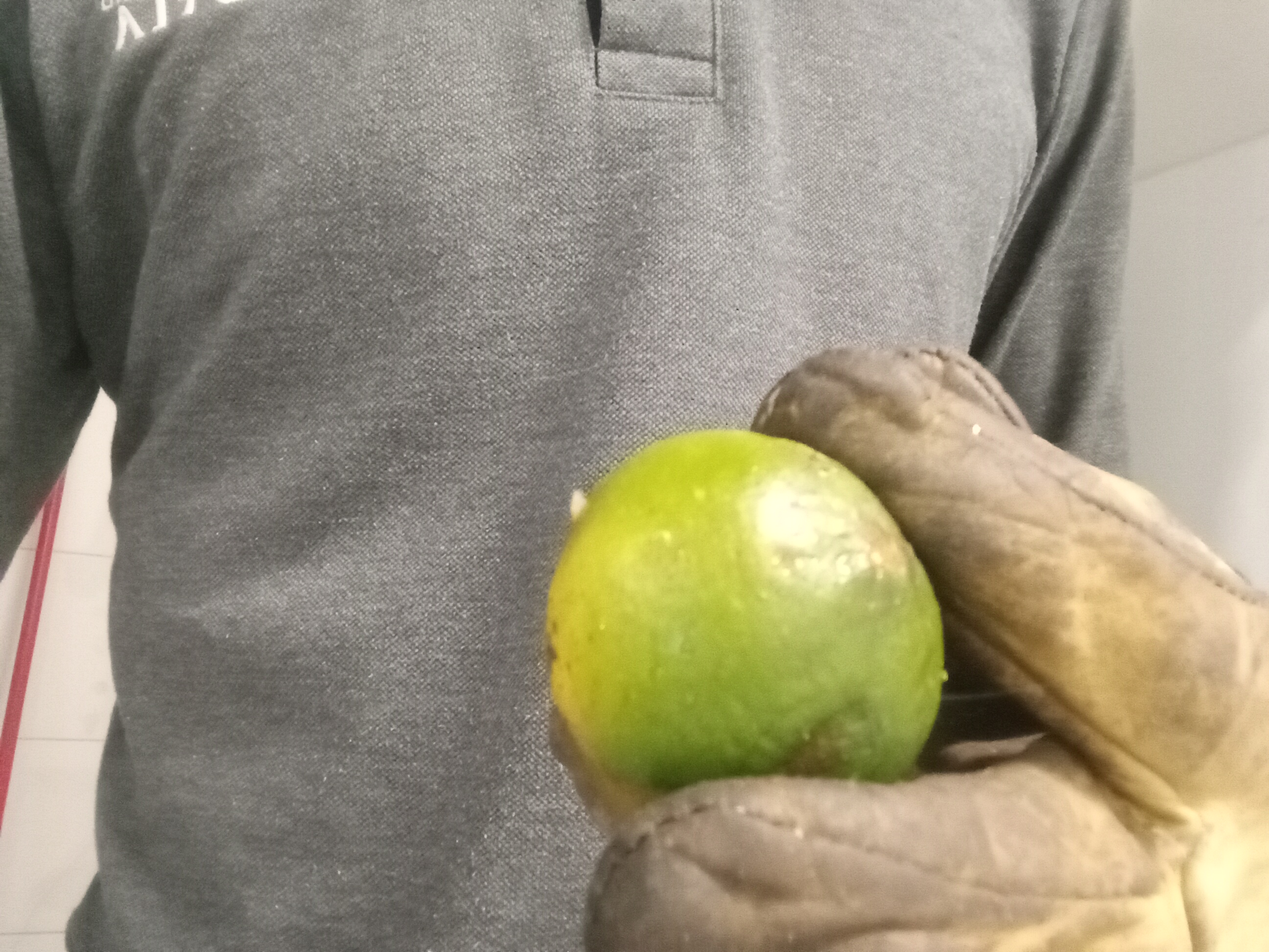Organico: (547, 425, 945, 811)
